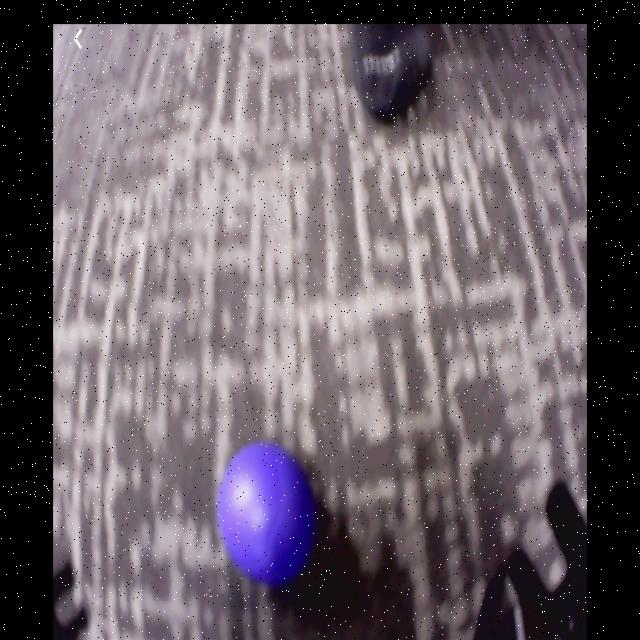ball: (219, 443, 313, 582)
